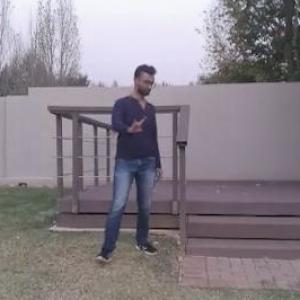takeoff-hand: (124, 106, 150, 136)
